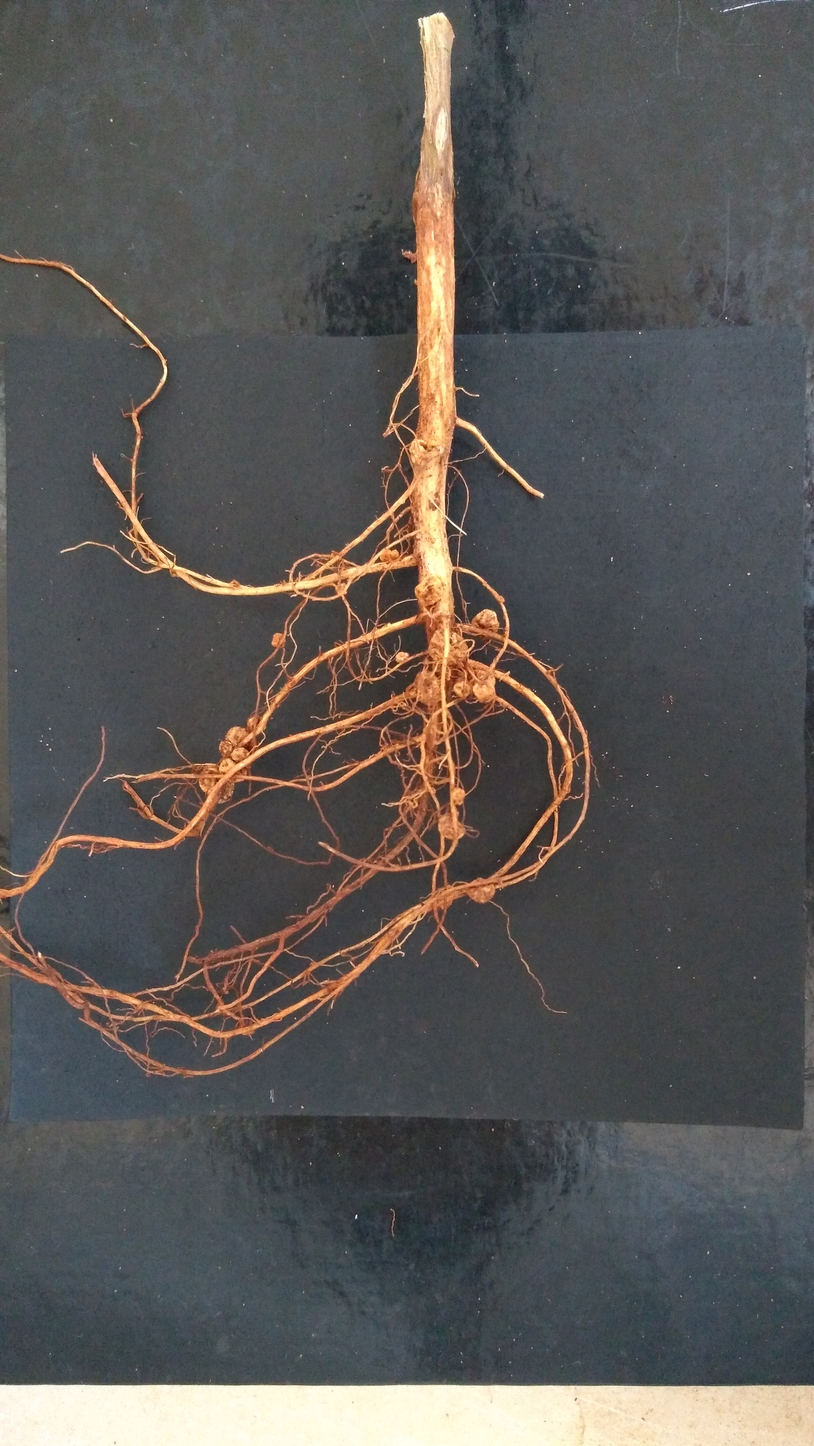nodule: (428, 629, 468, 665), (199, 764, 234, 803), (414, 669, 444, 705), (414, 574, 443, 607), (471, 609, 499, 639), (472, 670, 495, 703), (467, 877, 496, 903), (219, 757, 247, 782), (438, 815, 466, 839), (225, 726, 249, 748), (409, 439, 428, 465), (230, 747, 251, 768), (437, 885, 452, 909), (246, 715, 266, 733), (238, 1016, 255, 1036), (453, 681, 471, 697), (380, 548, 399, 562), (452, 787, 465, 806), (219, 740, 233, 757), (272, 633, 286, 648), (395, 652, 409, 662), (335, 583, 347, 594)
